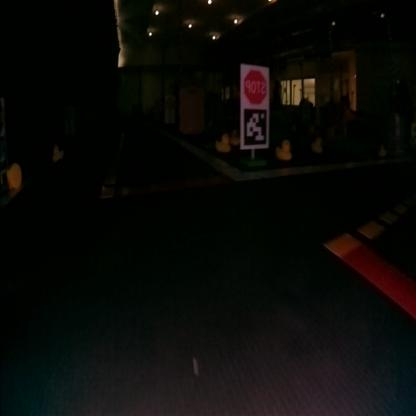Duckie: (7, 163, 22, 189), (278, 138, 292, 158), (217, 134, 231, 152), (52, 145, 64, 161), (231, 128, 240, 144), (312, 138, 322, 152), (379, 146, 386, 156)
QR code: (244, 107, 266, 146)
Stop sign: (244, 68, 268, 104)
